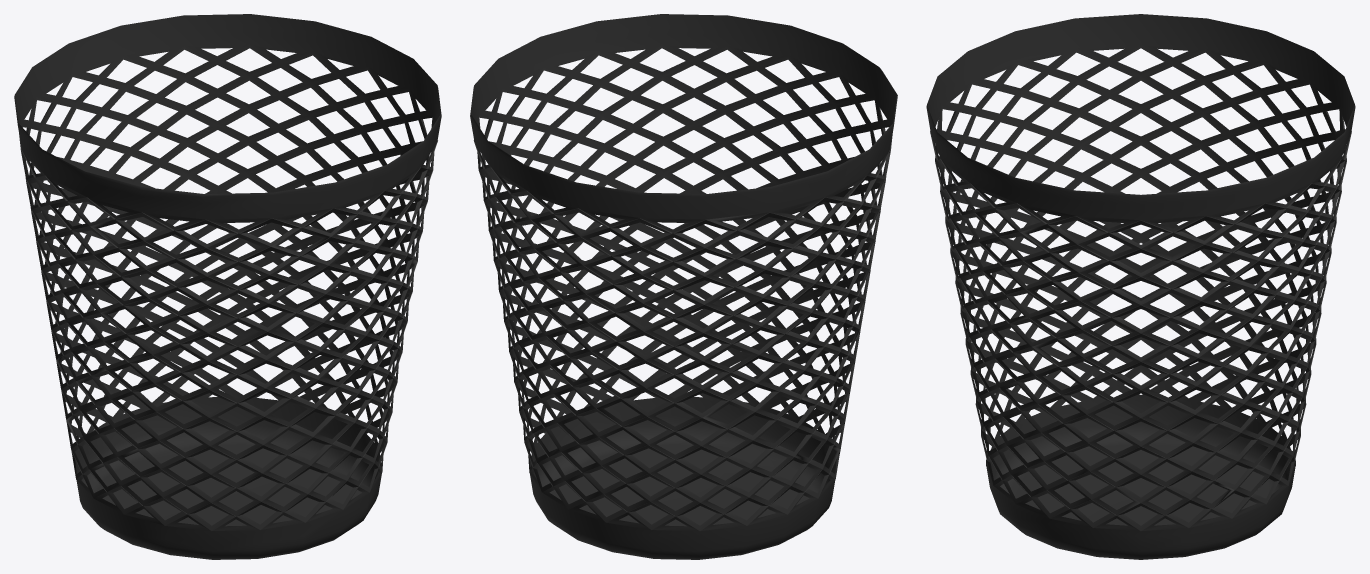
Rendered from paper-bin.glb.
The picture shows the model from 3 angles, left to right: view 1: azimuth 30°, elevation 25°; view 2: azimuth 150°, elevation 25°; view 3: azimuth 270°, elevation 25°; orthographic projection.
Visible parts, largest first — view 1: pCylinder4_Bin_0; view 2: pCylinder4_Bin_0; view 3: pCylinder4_Bin_0.
Part boxes in pixels (box(x1,y1,x2,y2)): pCylinder4_Bin_0: box(14, 14, 441, 559); pCylinder4_Bin_0: box(470, 14, 897, 559); pCylinder4_Bin_0: box(926, 14, 1355, 559).
Size of the model in its own units: 0.2937 by 0.3 by 0.2937.
1 material, 1 textured.
